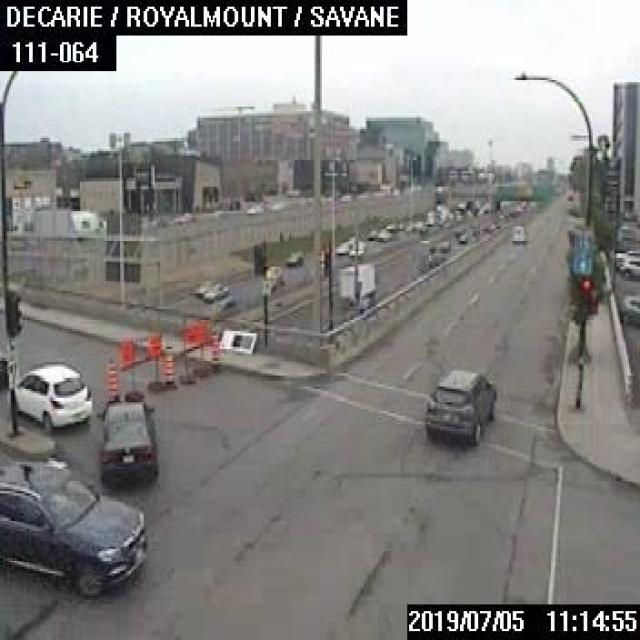construction: (178, 316, 206, 382), (120, 338, 142, 397), (148, 334, 160, 388), (105, 352, 117, 398), (163, 345, 175, 388), (207, 330, 219, 365)
vehicle: (0, 451, 147, 597), (420, 364, 496, 442), (10, 361, 94, 430), (97, 396, 155, 482), (334, 258, 374, 302), (620, 291, 638, 325), (200, 281, 230, 300), (618, 254, 638, 280), (614, 248, 638, 268), (262, 264, 281, 289), (284, 246, 304, 266), (508, 222, 526, 241), (194, 278, 212, 296), (174, 210, 192, 222), (245, 203, 262, 213), (377, 227, 390, 239), (366, 227, 375, 237)
